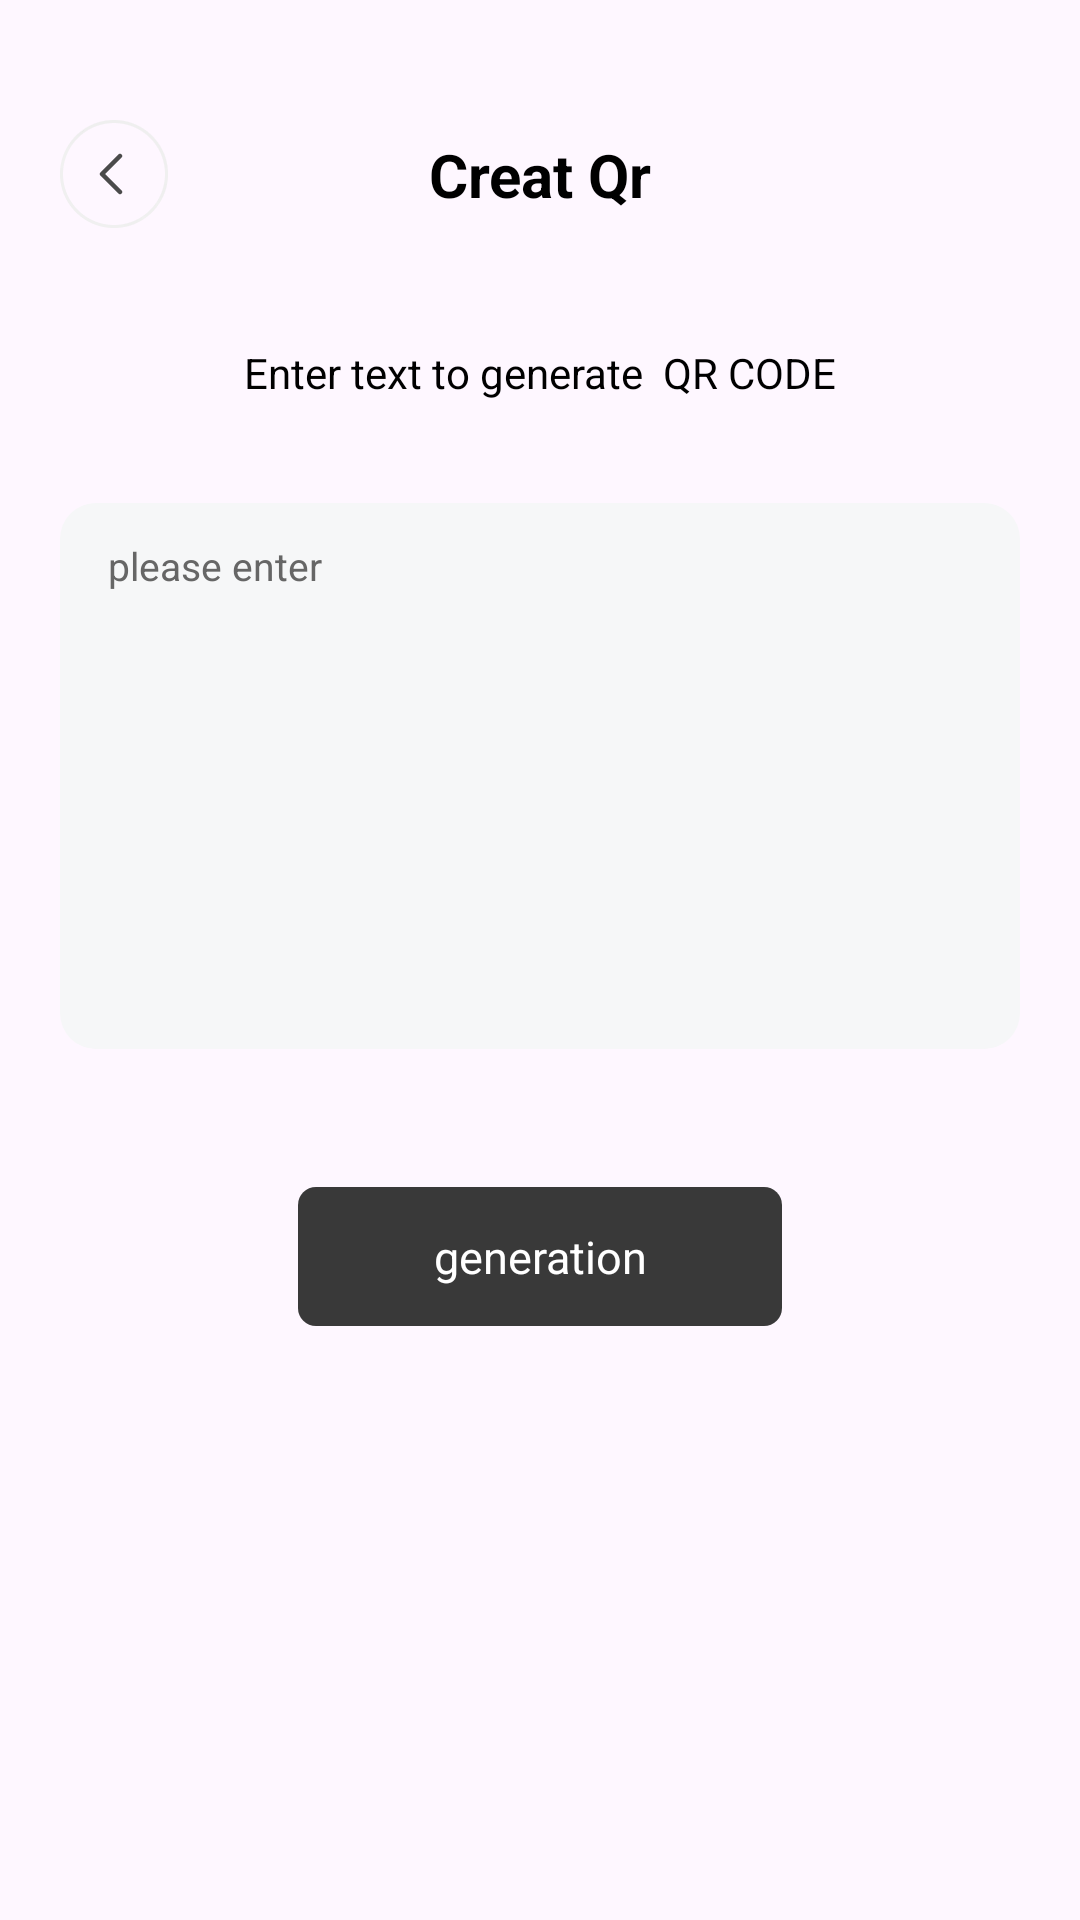

Screen size 1080w x 1920h. Icon name, then its box in pixels as (x1, y1, x2, y2):
back: (99, 153, 123, 195)
